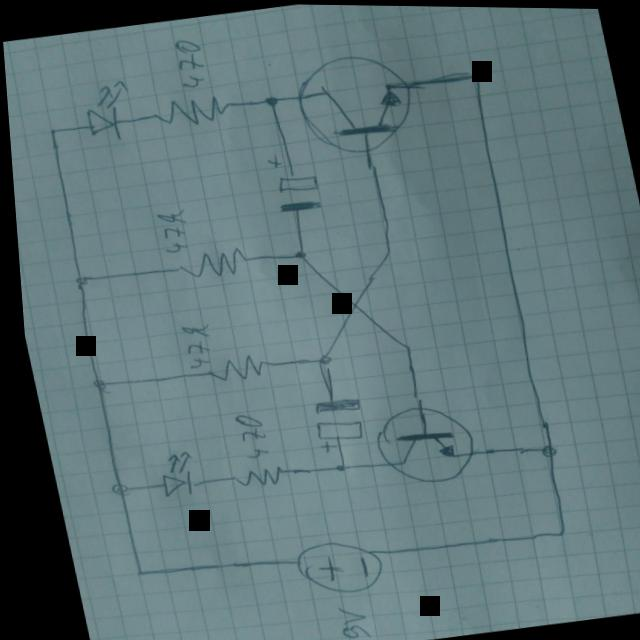capacitor: (262, 148, 322, 215), (301, 393, 363, 455)
crossover: (338, 294, 361, 314)
diode: (70, 74, 140, 148), (143, 447, 196, 501)
junction: (36, 117, 66, 147), (253, 86, 283, 116), (303, 345, 333, 374), (528, 438, 554, 461), (541, 521, 565, 542), (101, 480, 126, 499), (286, 244, 309, 263), (372, 242, 395, 259), (84, 375, 104, 394), (67, 271, 88, 289), (466, 66, 485, 85), (392, 340, 411, 356), (324, 460, 341, 475), (124, 567, 138, 580)
resistor: (141, 90, 235, 133), (169, 243, 252, 284), (188, 348, 269, 387), (220, 461, 286, 491)
source: (281, 533, 379, 601)
text: (166, 31, 215, 94), (147, 202, 191, 258), (170, 318, 213, 371), (226, 411, 267, 461), (324, 600, 363, 640)
transistor: (285, 44, 424, 163), (359, 396, 477, 491)
